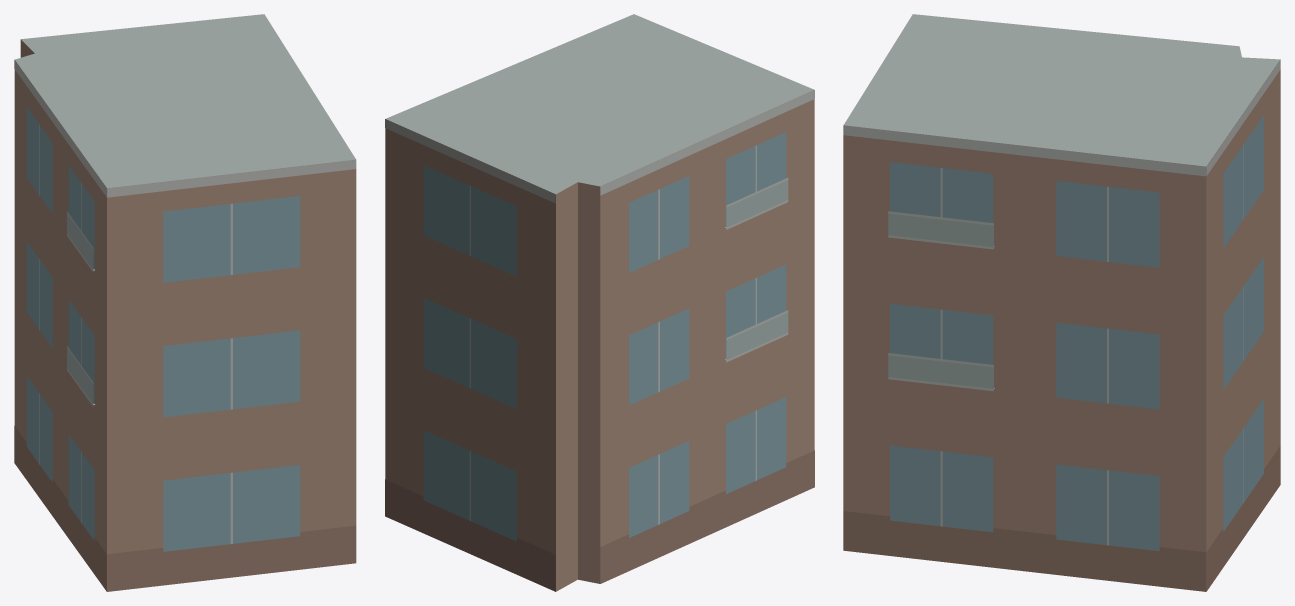
File: survey-upis-32990622.glb
The picture shows the model from 3 angles, left to right: view 1: azimuth 30°, elevation 25°; view 2: azimuth 150°, elevation 25°; view 3: azimuth 270°, elevation 25°; orthographic projection. The views are drawn at different scales.
Visible parts, largest first — view 1: survey-upis-32990622.tmp; view 2: survey-upis-32990622.tmp; view 3: survey-upis-32990622.tmp.
Boxes of the visible parts, left/top/right/bottom form: survey-upis-32990622.tmp: left=14, top=14, right=356, bottom=591; survey-upis-32990622.tmp: left=385, top=14, right=814, bottom=591; survey-upis-32990622.tmp: left=843, top=14, right=1280, bottom=591.
Bounding box in the file's own units: 8.09 × 10.5 × 9.79.
